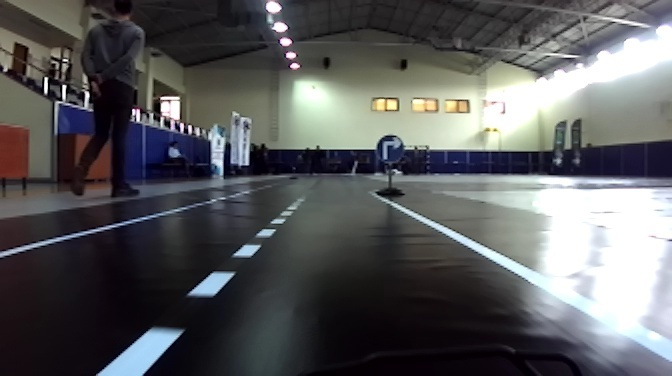saga_donus: (373, 134, 403, 165)
